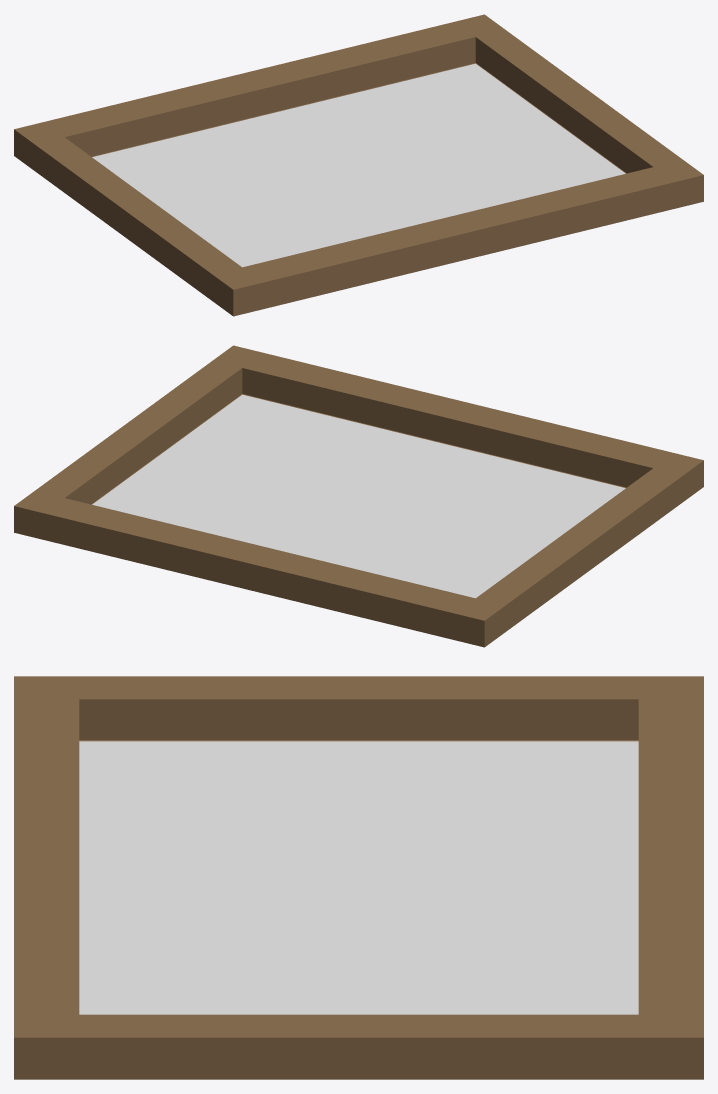
File: Pantalla.fbx
The picture shows the model from 3 angles, top to bottom: view 1: azimuth 30°, elevation 25°; view 2: azimuth 150°, elevation 25°; view 3: azimuth 270°, elevation 25°; orthographic projection. The views are drawn at different scales.
Parts seen in each view (by area): view 1: Pantalla; view 2: Pantalla; view 3: Pantalla.
Part boxes in pixels (left/top/right/bottom): Pantalla: left=14, top=14, right=703, bottom=316; Pantalla: left=14, top=345, right=703, bottom=647; Pantalla: left=14, top=676, right=703, bottom=1079.
Bounding box in the file's own units: 0.846 × 0.0458 × 0.6831.
